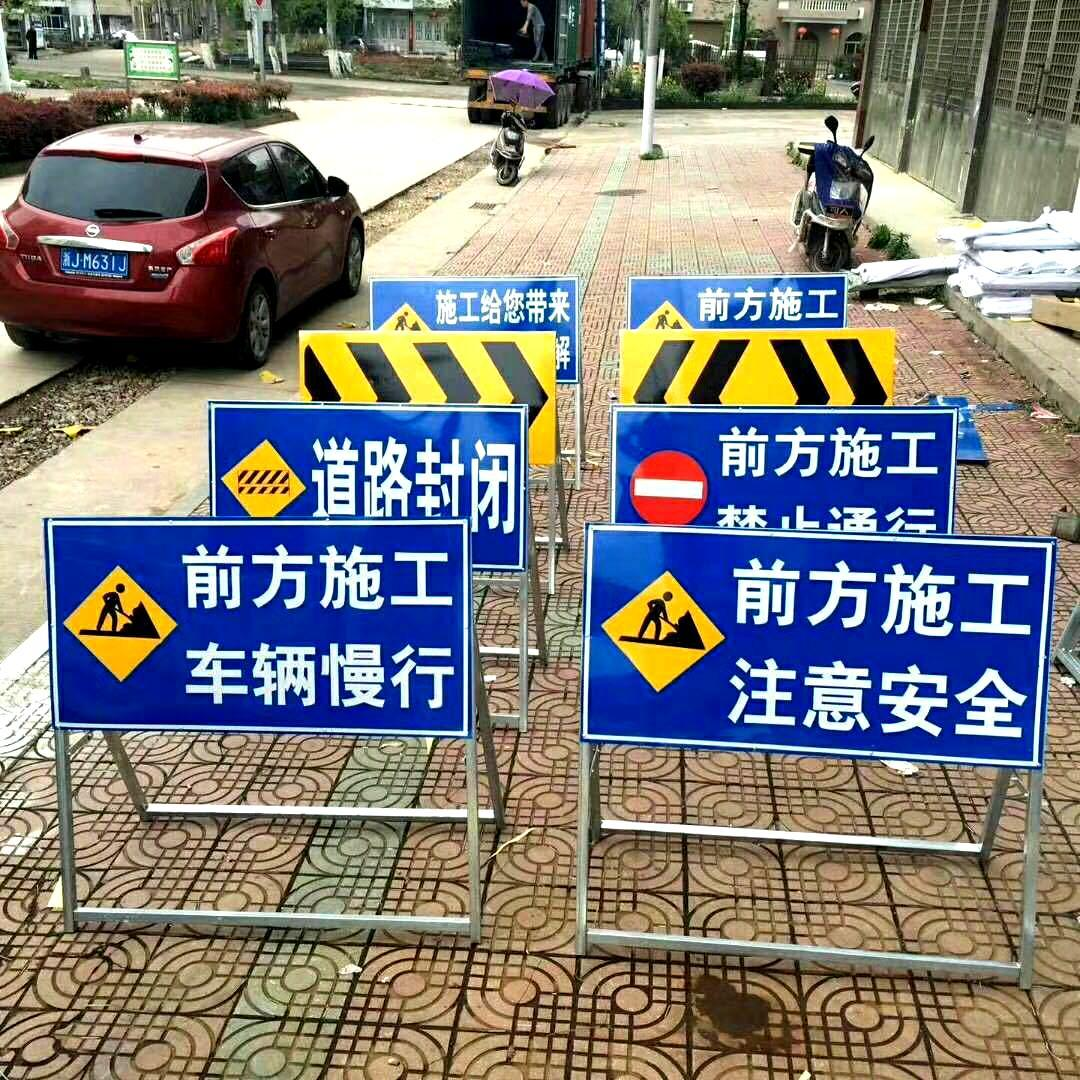sign: (594, 527, 1041, 766), (46, 514, 472, 732), (617, 398, 948, 557), (209, 403, 518, 565), (370, 278, 572, 383), (630, 274, 846, 332)
